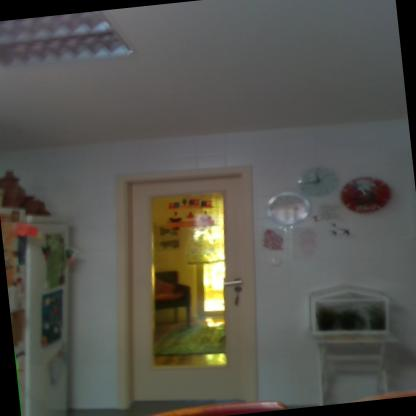closed: (96, 148, 290, 410)
